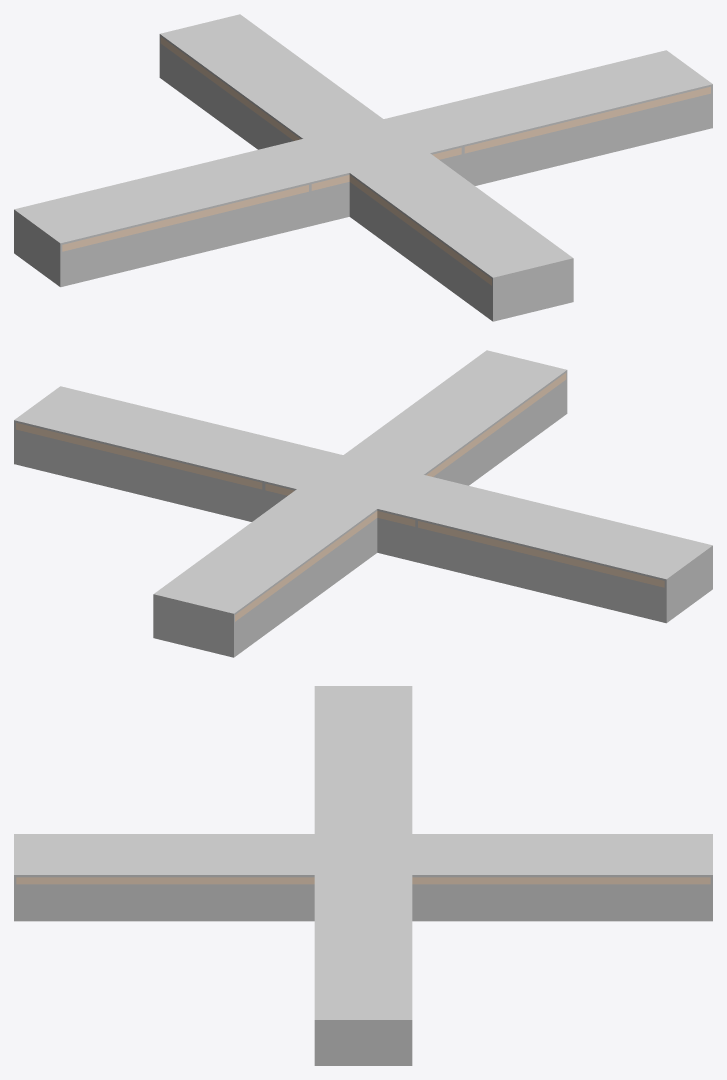
Rendered from PhaseMap.fbx.
3 renders of one model, top to bottom at view 1: azimuth 30°, elevation 25°; view 2: azimuth 150°, elevation 25°; view 3: azimuth 270°, elevation 25°, orthographic. The views are drawn at different scales.
Visible parts, largest first — view 1: Group37, Group103, Group65, Group9, wall3, wall8, Group88, wall6, wall1, Group58, Group30, Group36 (+10 smaller); view 2: Group37, Group103, Group9, Group65, wall4, wall7, Group88, wall1, wall6, Group2, Group30, Group36 (+10 smaller); view 3: Group9, Group65, Group103, Group37, wall2, wall5, Group88, Group96, Group8, Group64, Group7, Group63 (+2 smaller).
Part boxes in pixels (bbox=[...]): Group37: bbox=[14, 149, 308, 245]; Group103: bbox=[418, 50, 712, 146]; Group65: bbox=[349, 153, 573, 279]; Group9: bbox=[159, 14, 383, 139]; wall3: bbox=[62, 193, 308, 284]; wall8: bbox=[464, 95, 710, 184]; Group88: bbox=[263, 111, 464, 184]; wall6: bbox=[349, 184, 491, 318]; wall1: bbox=[160, 46, 291, 149]; Group58: bbox=[492, 260, 573, 319]; Group30: bbox=[14, 211, 62, 285]; Group36: bbox=[62, 185, 308, 251]; Group37: bbox=[418, 485, 712, 581]; Group103: bbox=[14, 386, 308, 482]; Group9: bbox=[153, 489, 377, 615]; Group65: bbox=[343, 350, 567, 475]; wall4: bbox=[418, 529, 664, 620]; wall7: bbox=[16, 431, 262, 520]; Group88: bbox=[262, 447, 463, 520]; wall1: bbox=[235, 520, 377, 654]; wall6: bbox=[435, 382, 566, 485]; Group2: bbox=[153, 596, 234, 655]; Group30: bbox=[664, 547, 712, 621]; Group36: bbox=[418, 521, 664, 587]; Group9: bbox=[412, 834, 712, 877]; Group65: bbox=[14, 834, 314, 877]; Group103: bbox=[314, 892, 412, 1021]; Group37: bbox=[314, 686, 412, 812]; wall2: bbox=[412, 886, 710, 918]; wall5: bbox=[16, 886, 314, 918]; Group88: bbox=[314, 813, 412, 892]; Group96: bbox=[314, 1022, 412, 1063]; Group8: bbox=[412, 877, 710, 884]; Group64: bbox=[16, 877, 314, 884]; Group7: bbox=[412, 919, 712, 921]; Group63: bbox=[14, 919, 314, 921].
Size of the model in its own units: 68944 by 4438 by 60996.
